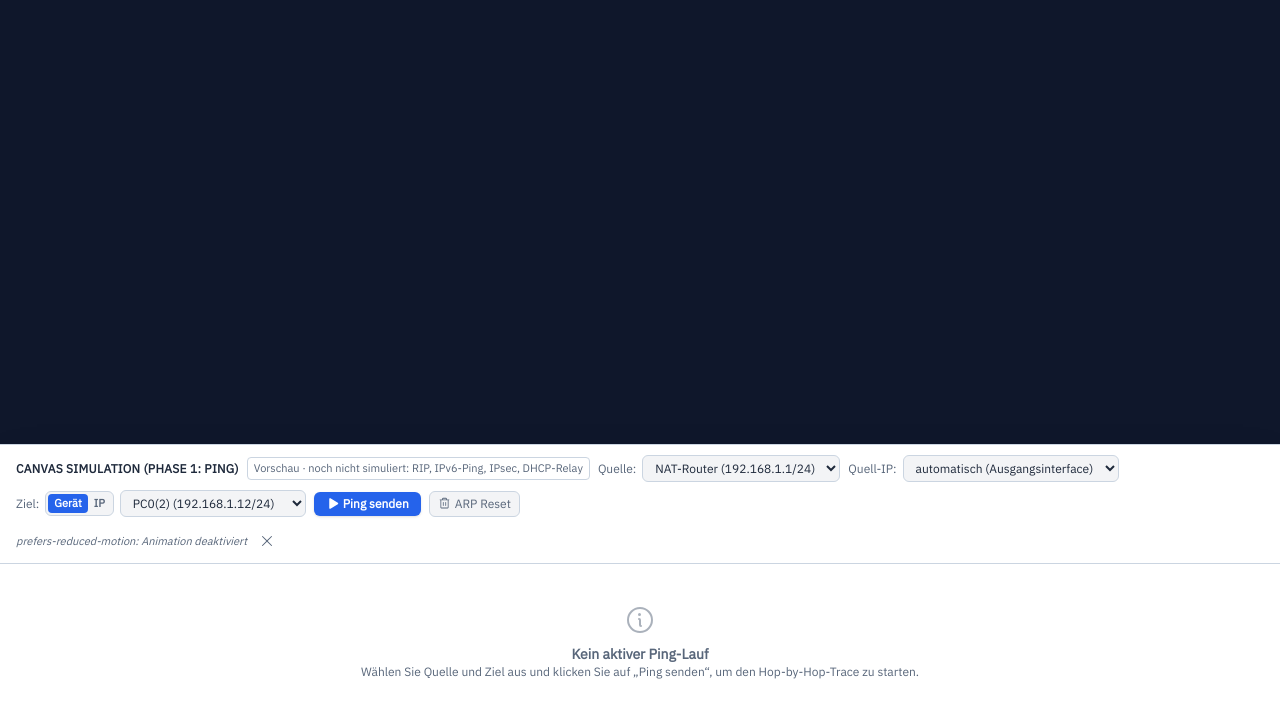
Test case: SimulationDock: NAT-Translation-Tabelle › zeigt die Tabelle nach einem PAT-Ping, reicht sie an den nächsten Ping weiter und leert sie per clear
Select "PC0 (192.168.1.10/24)" in the dropdown labelled "Quelle:" at point(741, 468), box [642,455,840,482]
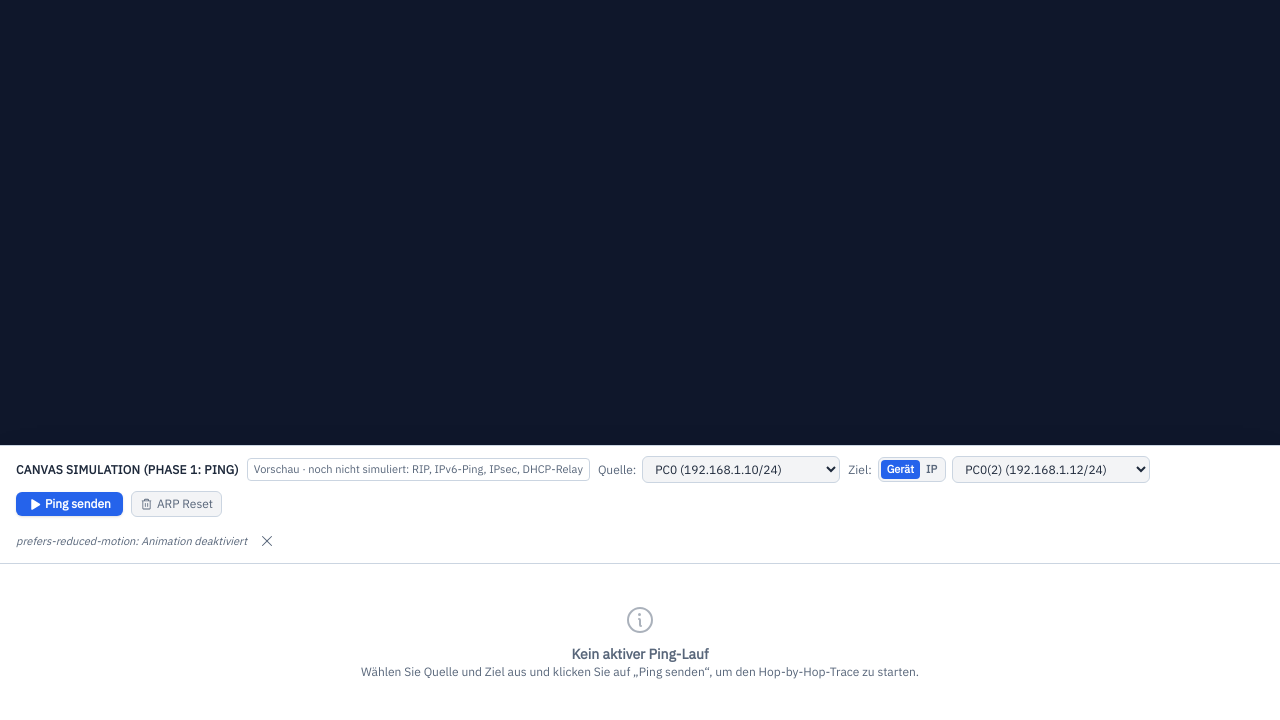
Click the button "IP" at point(932, 470), box [920,460,943,479]
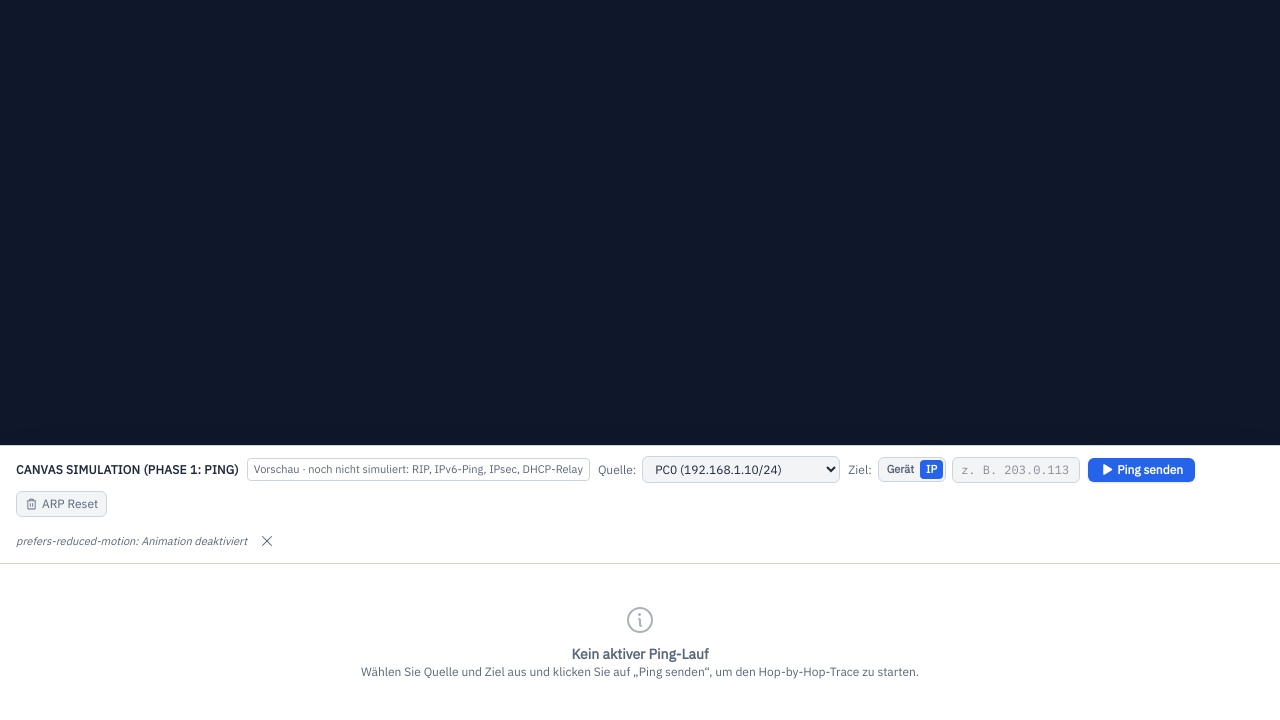
Type "47.11.8.15" into the field named "Ziel-IP eingeben" at point(1016, 470), box [952,456,1080,482]
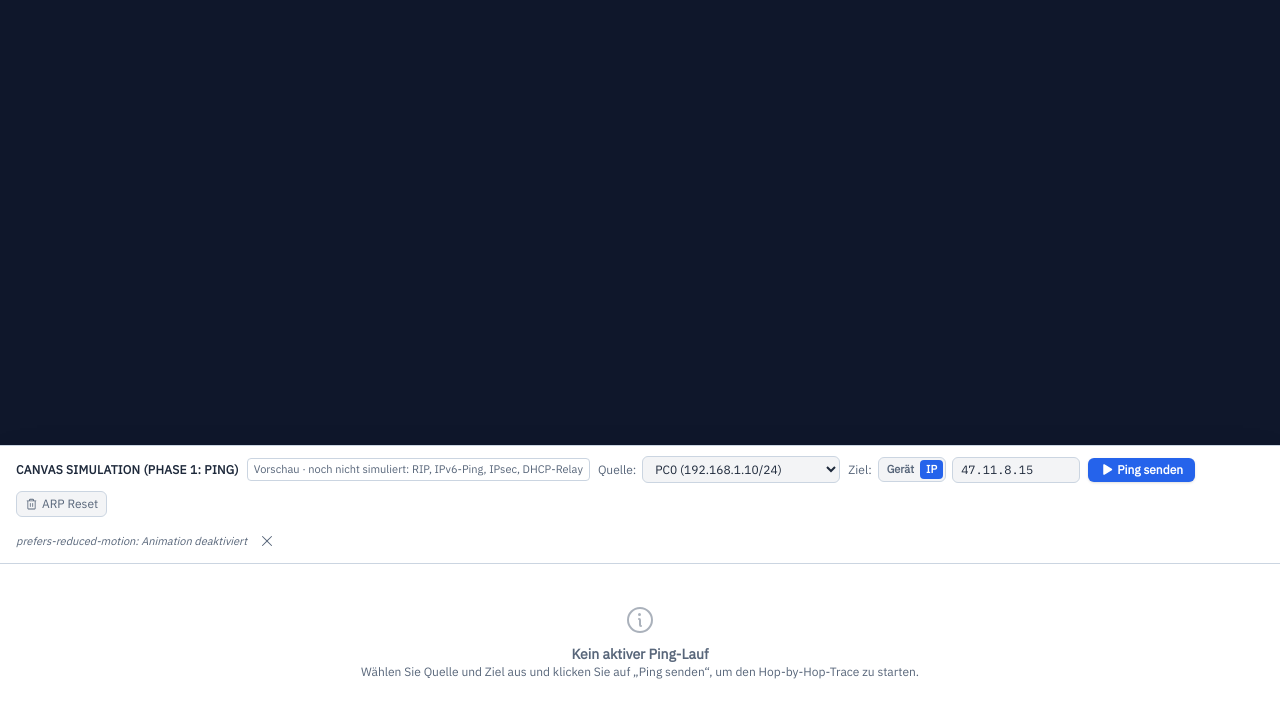
Click the button "Ping senden" at point(1142, 470), box [1088,458,1195,482]
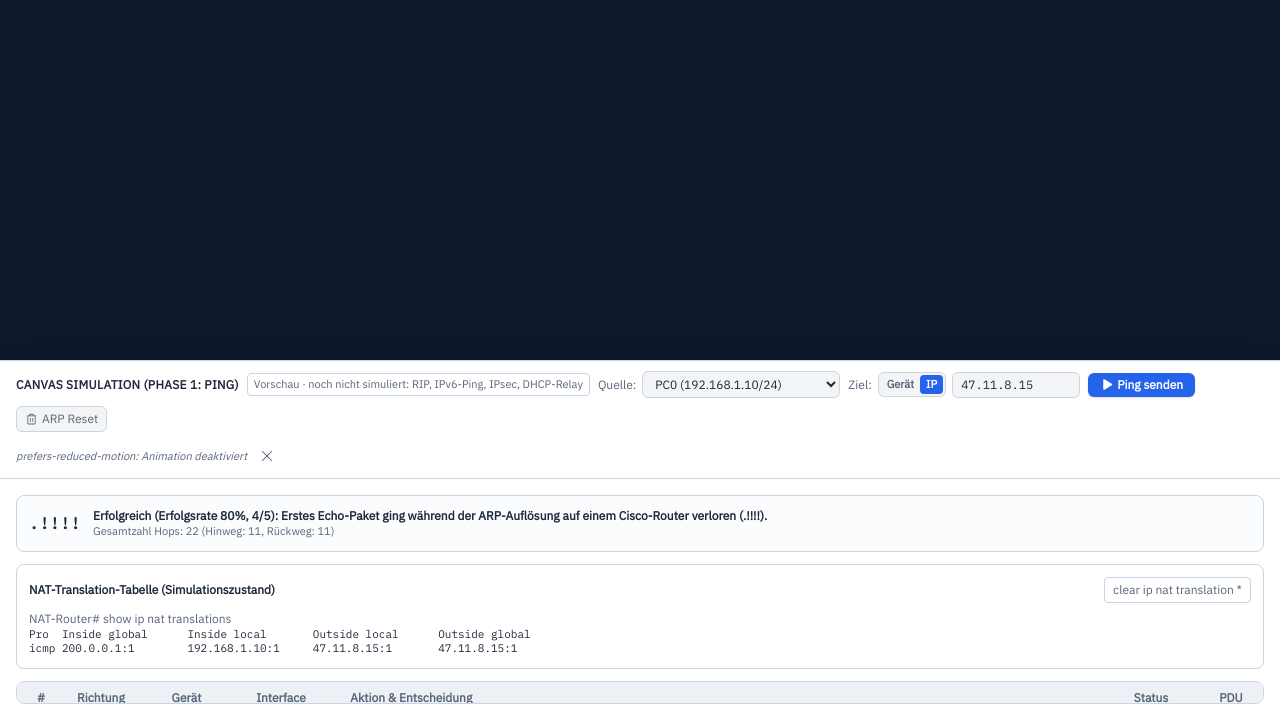
Click the button "Ping senden" at point(1142, 384), box [1088,372,1195,396]
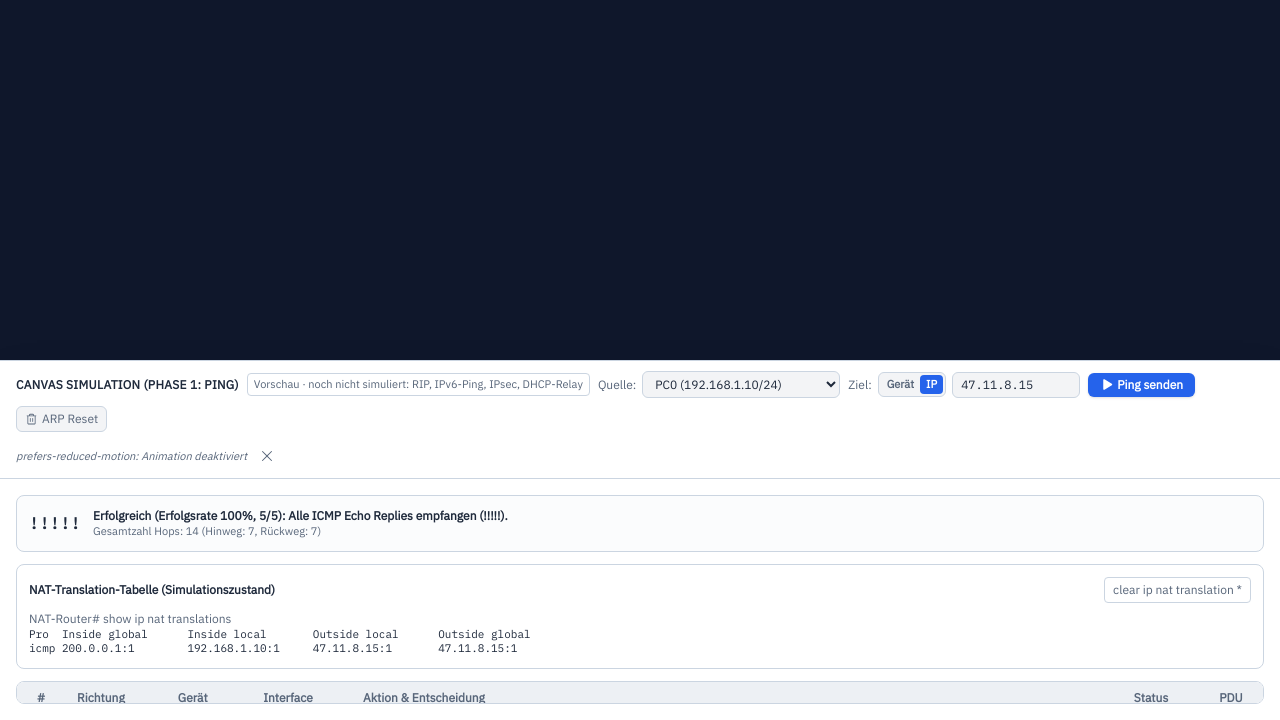
Click the button "clear ip nat translation *" at point(1178, 590), box [1104,577,1251,603]
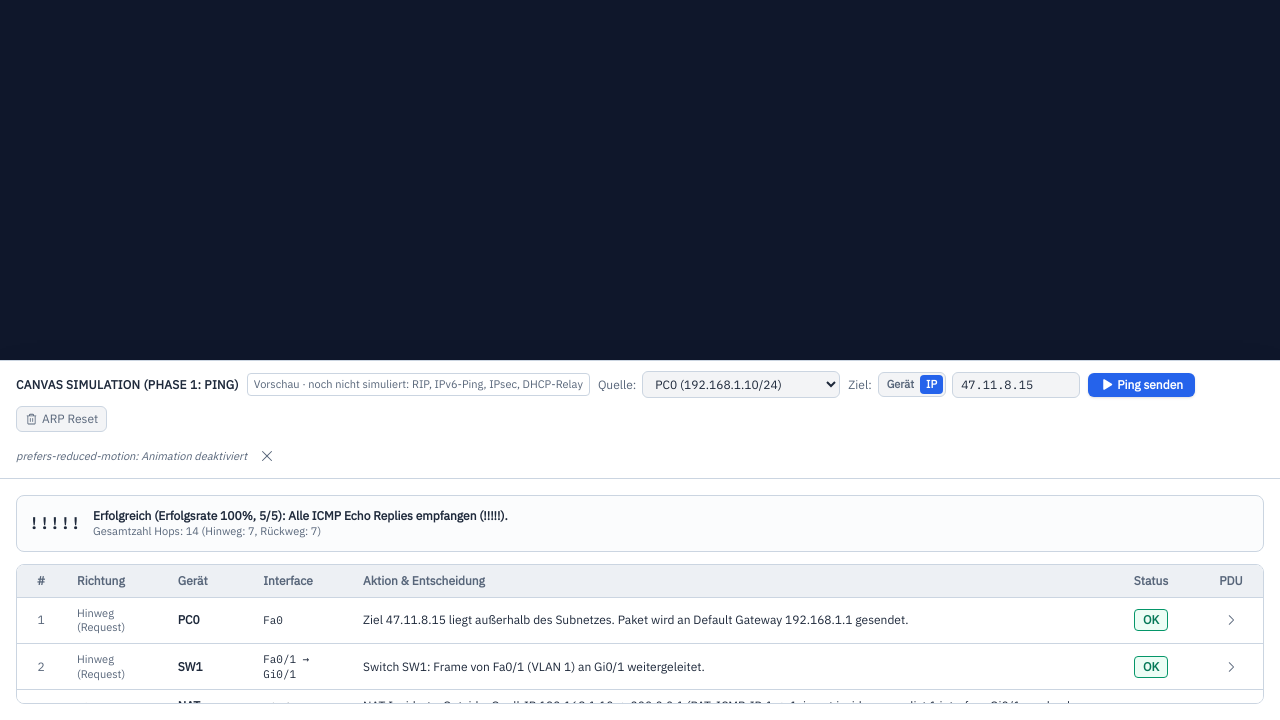
Expected: the text with test id "nat-translations" is gone
